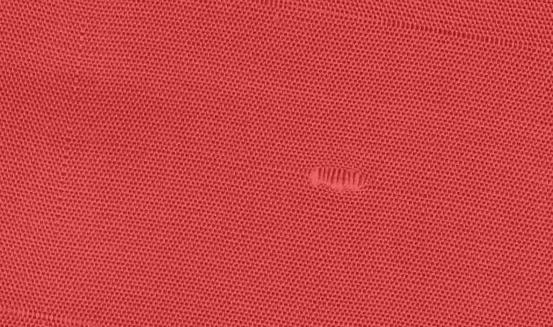slub: (302, 158, 380, 197)
